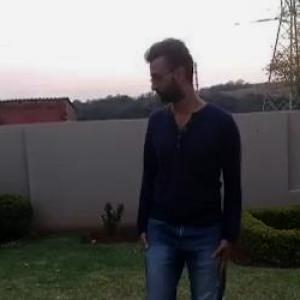follow: (130, 29, 250, 299)
